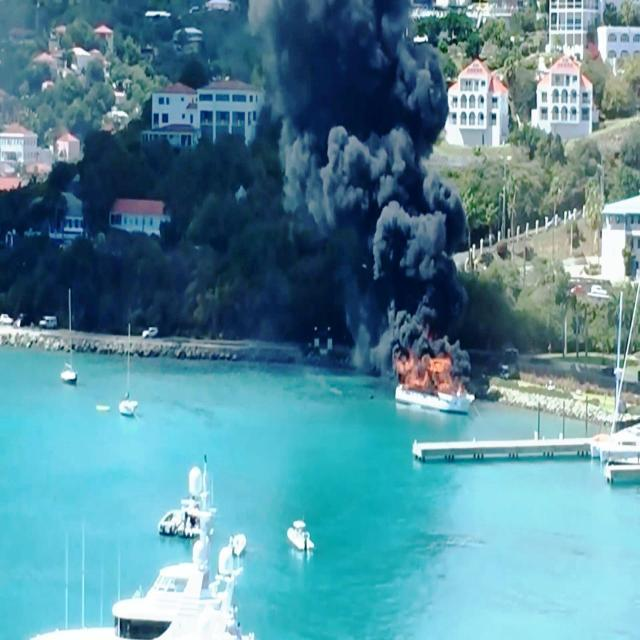Fire: (392, 344, 468, 399)
Smoke: (260, 2, 478, 339)
